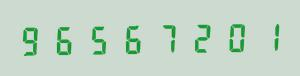five: (83, 21, 115, 56)
nine: (17, 22, 49, 57)
one: (248, 18, 280, 53)
seven: (149, 20, 181, 55)
six: (50, 21, 82, 57), (116, 20, 148, 56)
two: (182, 19, 214, 54)
zero: (215, 18, 247, 54)
